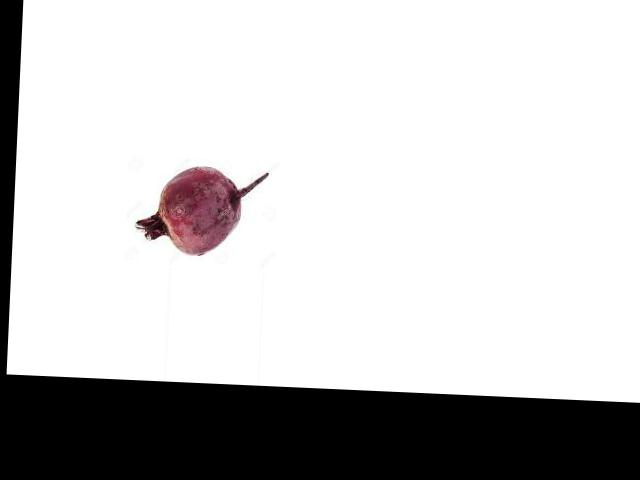beet: (133, 163, 268, 257)
